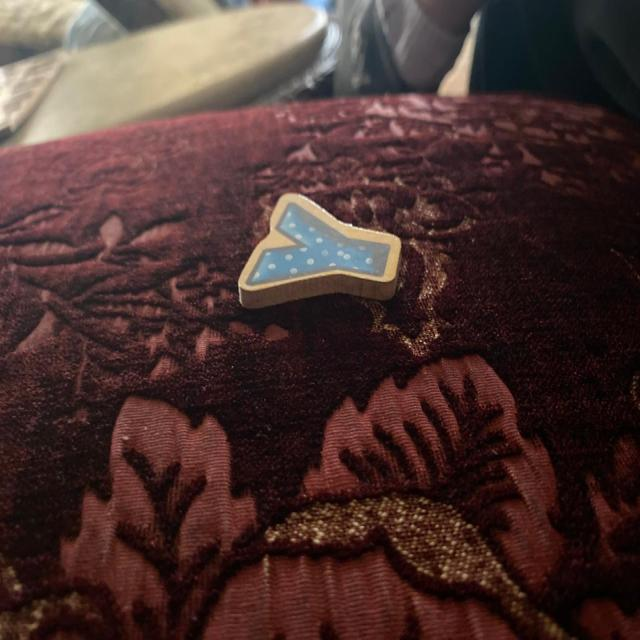Y: (238, 193, 400, 308)
